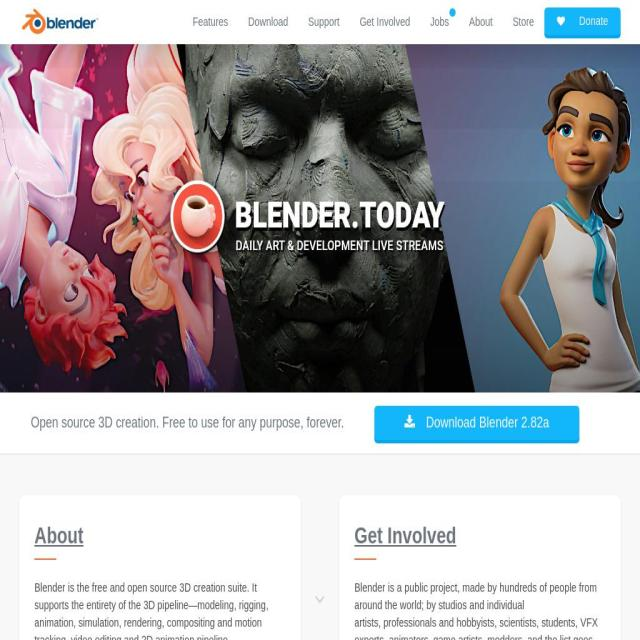button: (31, 412, 344, 435), (374, 406, 579, 441), (350, 0, 420, 44), (238, 0, 298, 44), (183, 0, 238, 44), (298, 0, 350, 44), (544, 7, 620, 35), (459, 0, 503, 44), (502, 0, 544, 44), (420, 0, 459, 44)
image: (0, 41, 640, 393), (19, 5, 102, 39)
link: (354, 523, 456, 549), (34, 523, 84, 549)
text: (34, 579, 286, 640), (354, 579, 606, 640), (426, 414, 550, 432), (576, 14, 608, 28)
